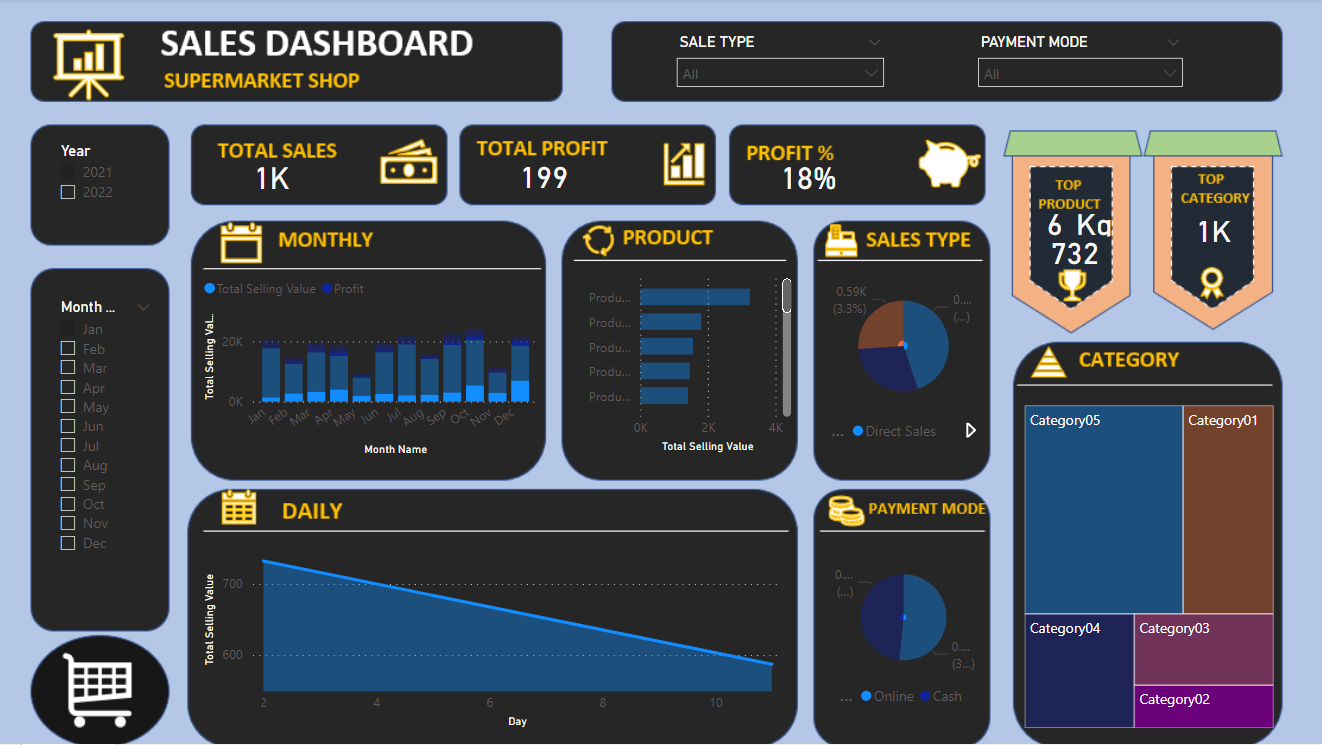

What the dashboard file says about the page in this screenshot:
{"tool":"powerbi","page":{"name":"Page 1","canvas":[1280,720],"ordinal":0},"visuals":[{"type":"slicer","fields":{"Values":["InputData.SALE TYPE"]},"box":[646.4,28.9,220.7,71.2],"z":0},{"type":"slicer","fields":{"Values":["InputData.Year"]},"box":[49.4,133.9,112.2,98.9],"z":1000},{"type":"slicer","fields":{"Values":["InputData.Month Name"]},"box":[49.4,284.6,112.2,295.5],"z":2000},{"type":"slicer","fields":{"Values":["InputData.PAYMENT MODE"]},"box":[937.1,28.9,218.3,71.2],"z":3000},{"type":"card","fields":{"Values":["Sum(InputData.Total Selling Value)"]},"box":[195.4,150.8,141.1,42.2],"z":4000},{"type":"card","fields":{"Values":["InputData.Profit"]},"box":[443.8,143.5,170.1,55.5],"z":5000},{"type":"card","fields":{"Values":["InputData.Profit %"]},"box":[716.4,150.8,135.1,42.2],"z":6000},{"type":"card","fields":{"Values":["Sum(InputData.Total Selling Value)"]},"box":[1009.4,226.7,62.7,37.4],"z":7000},{"type":"card","fields":{"Values":["Sum(InputData.QUANTITY)"]},"box":[996.2,194.2,50.7,45.8],"z":8000},{"type":"card","fields":{"Values":["Sum(InputData.Total Selling Value)"]},"box":[1136.1,183.3,77.2,80.8],"z":9000},{"type":"card","fields":{"Values":["Min(InputData.MasterData.UOM)"]},"box":[1034.8,199,49.4,36.2],"z":10000},{"type":"columnChart","fields":{"Category":["InputData.Month Name"],"Y":["Sum(InputData.Total Selling Value)","InputData.Profit"]},"box":[195.4,260.5,332.9,185.7],"z":11000},{"type":"clusteredBarChart","fields":{"Category":["InputData.MasterData.PRODUCT"],"Y":["Sum(InputData.Total Selling Value)"]},"box":[553.6,258.1,218.3,185.7],"z":12000},{"type":"areaChart","fields":{"Y":["Sum(InputData.Total Selling Value)"],"Category":["InputData.Day"]},"box":[195.4,517.4,568,191.8],"z":13000},{"type":"pieChart","fields":{"Y":["Sum(InputData.Total Selling Value)"],"Category":["InputData.SALE TYPE"]},"box":[800.8,264.1,149.5,172.5],"z":14000},{"type":"pieChart","fields":{"Y":["Sum(InputData.Total Selling Value)"],"Category":["InputData.PAYMENT MODE"]},"box":[800.8,531.9,149.5,160.4],"z":15000},{"type":"treemap","fields":{"Group":["InputData.MasterData.CATEGORY"],"Values":["Sum(InputData.Total Selling Value)"]},"box":[987.7,388.3,249.6,320.8],"z":16000}]}

Visuals, with their boxes in screenshot pixels (x1, y1, x2, y2), scaled from the page's 1280x720 canvas onto the 1322x745 screenshot:
slicer - InputData.SALE TYPE: [668,30,896,104]
slicer - InputData.Year: [51,139,167,241]
slicer - InputData.Month Name: [51,294,167,600]
slicer - InputData.PAYMENT MODE: [968,30,1193,104]
card - Sum(InputData.Total Selling Value): [202,156,348,200]
card - InputData.Profit: [458,148,634,206]
card - InputData.Profit %: [740,156,879,200]
card - Sum(InputData.Total Selling Value): [1043,235,1107,273]
card - Sum(InputData.QUANTITY): [1029,201,1081,248]
card - Sum(InputData.Total Selling Value): [1173,190,1253,273]
card - Min(InputData.MasterData.UOM): [1069,206,1120,243]
columnChart - InputData.Month Name x Sum(InputData.Total Selling Value): [202,270,546,462]
clusteredBarChart - InputData.MasterData.PRODUCT x Sum(InputData.Total Selling Value): [572,267,797,459]
areaChart - Sum(InputData.Total Selling Value) x InputData.Day: [202,535,788,734]
pieChart - Sum(InputData.Total Selling Value) x InputData.SALE TYPE: [827,273,981,452]
pieChart - Sum(InputData.Total Selling Value) x InputData.PAYMENT MODE: [827,550,981,716]
treemap - InputData.MasterData.CATEGORY x Sum(InputData.Total Selling Value): [1020,402,1278,734]
